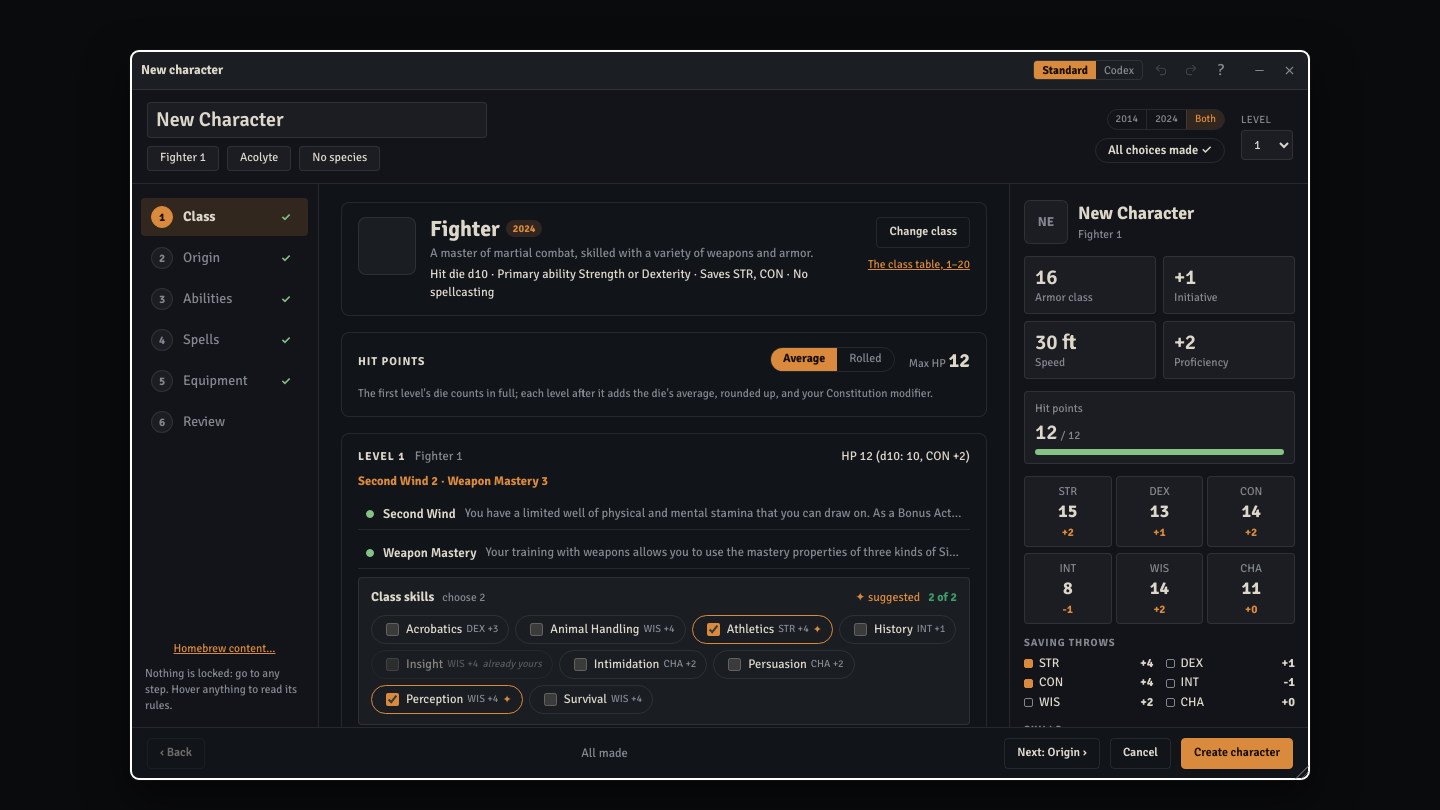
Test case: rules cards in the builder (Phase 2) › a spell chip shows its card, and the class has an ⓘ
What coordinates should you click on to do the following:
click the button "4 Spells ✓"
I would click on:
 (224, 340)
Its box is [141,321,308,359].
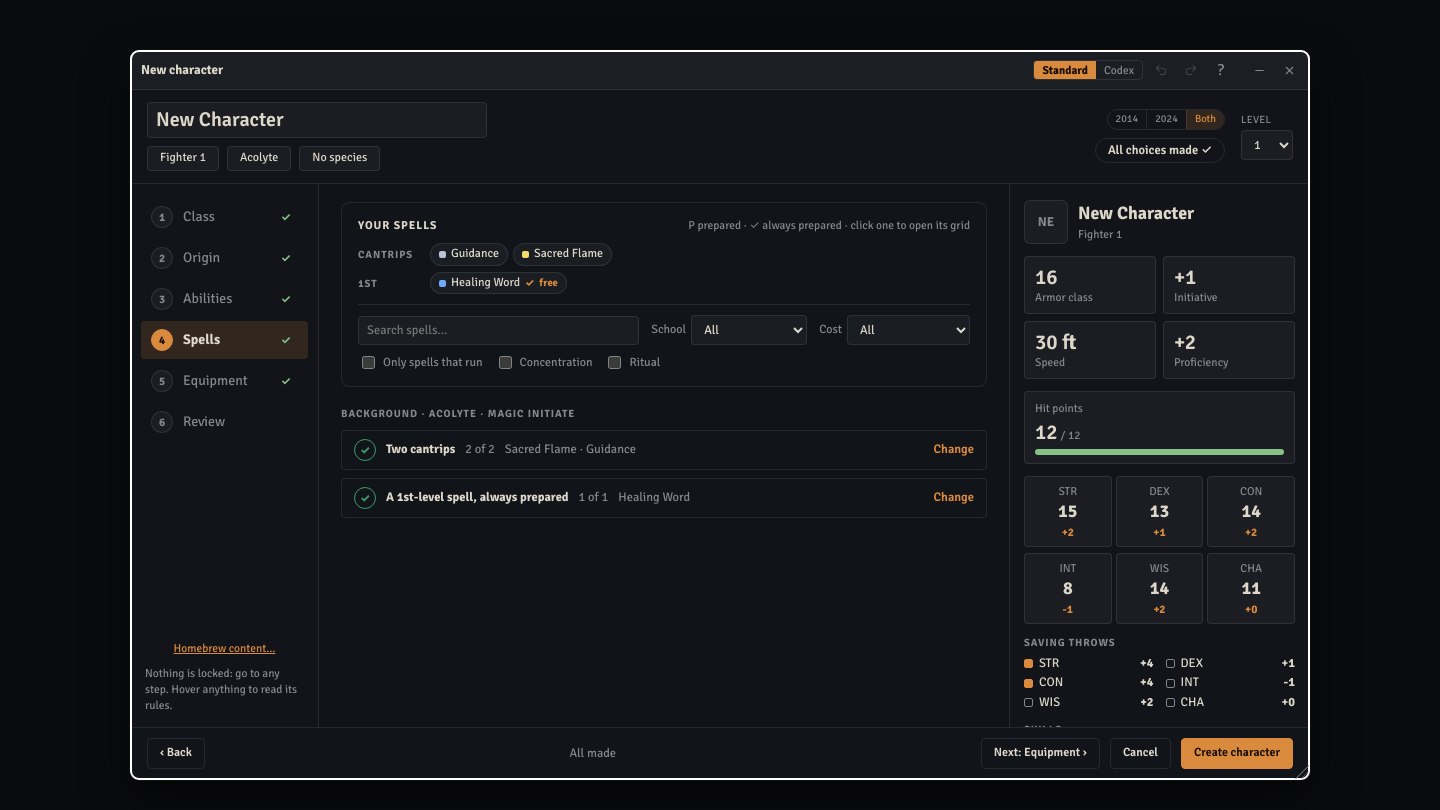
What coordinates should you click on to do the following:
click the button "✓ Two cantrips 2 of 2 Sacred Flame · Guidance Change"
I would click on:
 (421, 449)
Its box is [341,430,987,470].
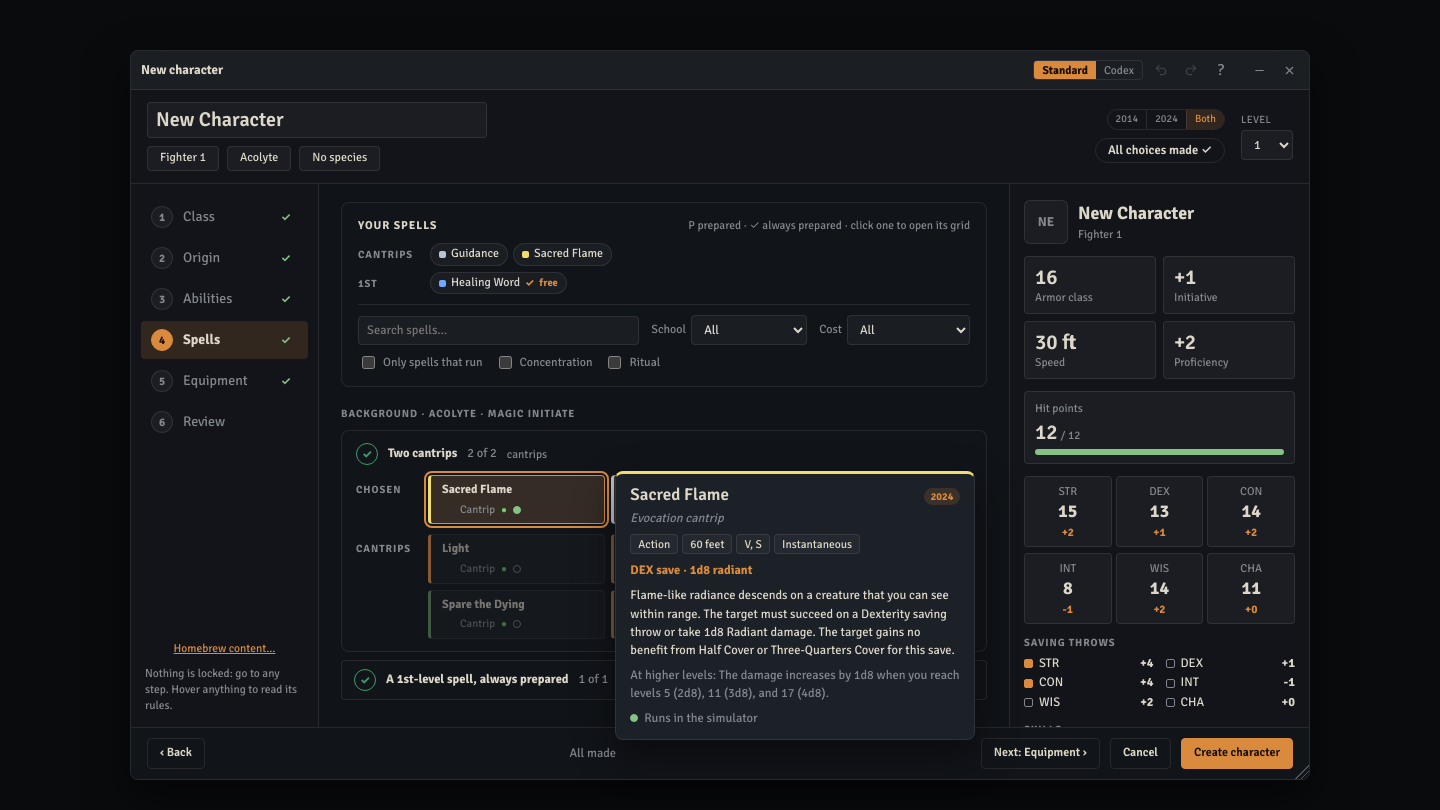
Expected: the text "Evocation cantrip" is shown, [630,510,724,526]
What coordinates should you click on to do the following:
click the button "1 Class ✓"
I would click on:
 (224, 217)
Its box is [141,198,308,236].
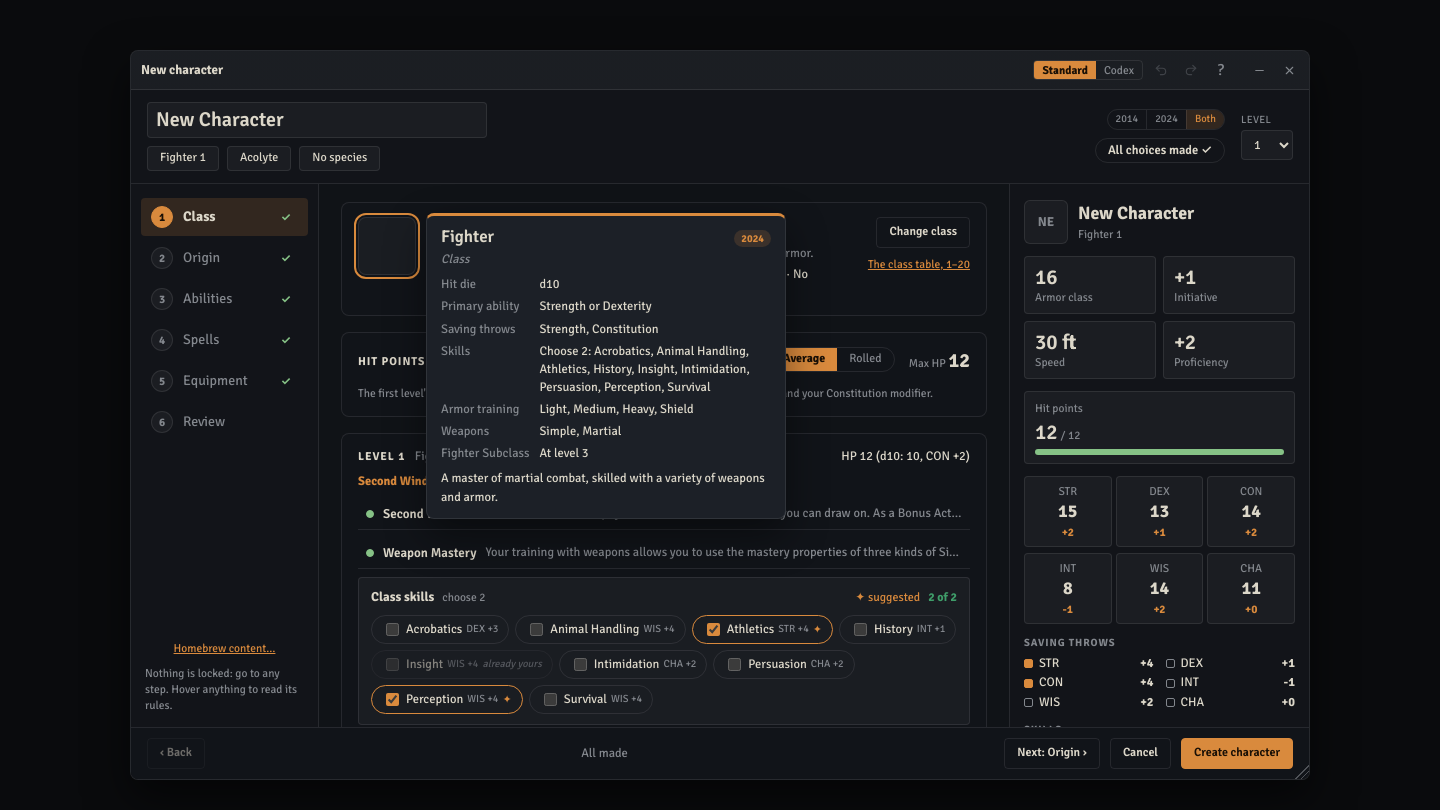
Expected: the text "d10" is shown, [539,276,560,292]
